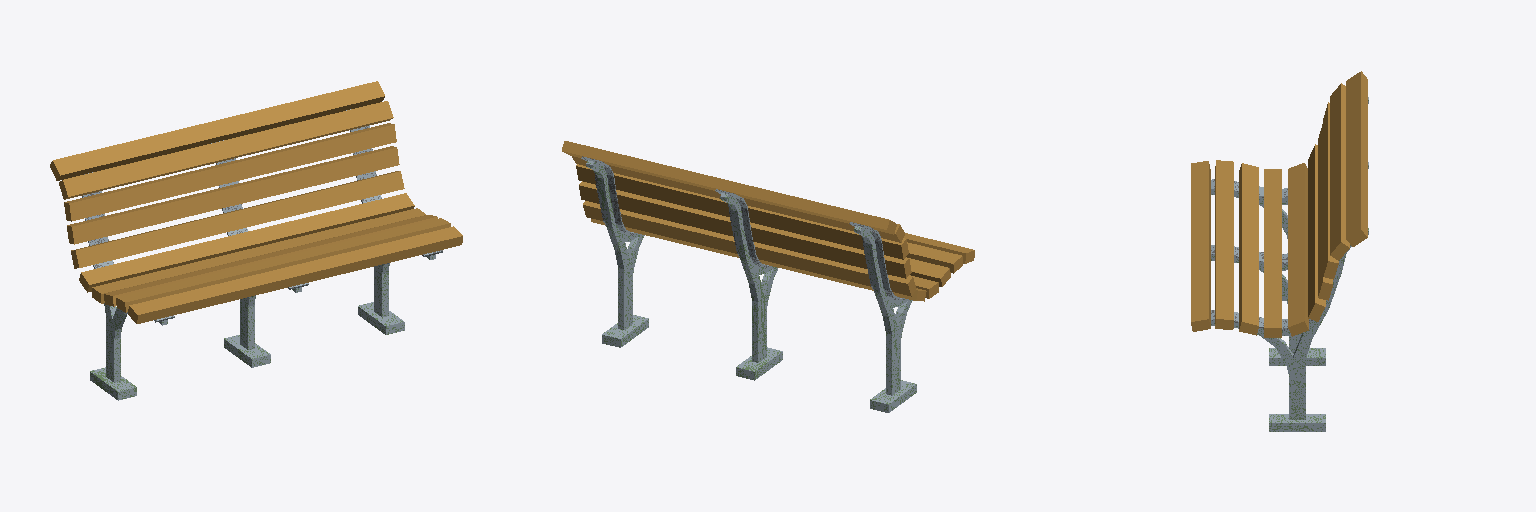
The model's file is banco1.obj.
3 renders of one model, left to right at view 1: azimuth 30°, elevation 25°; view 2: azimuth 150°, elevation 25°; view 3: azimuth 270°, elevation 25°, orthographic.
Parts seen in each view (by area): view 1: banco1; view 2: banco1; view 3: banco1.
Part boxes in pixels (left/top/right/bottom): banco1: left=50, top=81, right=462, bottom=400; banco1: left=562, top=141, right=974, bottom=412; banco1: left=1191, top=71, right=1368, bottom=431.
Bounding box in the file's own units: 1.62 × 1 × 0.7694.